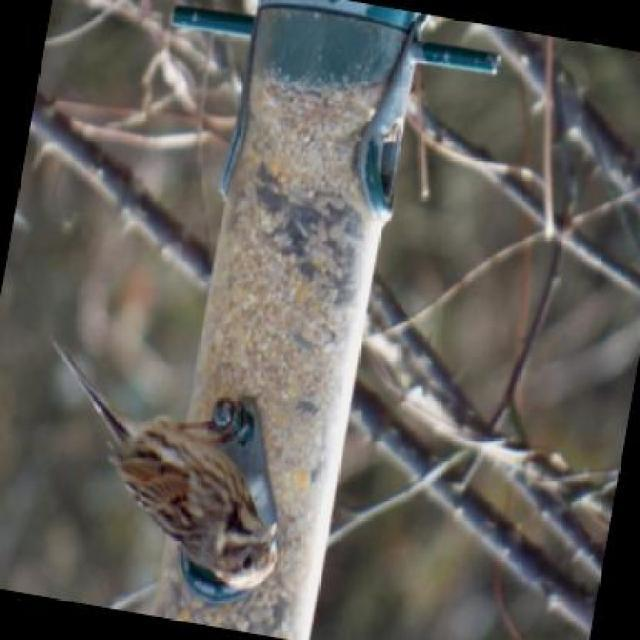Bird: (49, 337, 285, 594)
